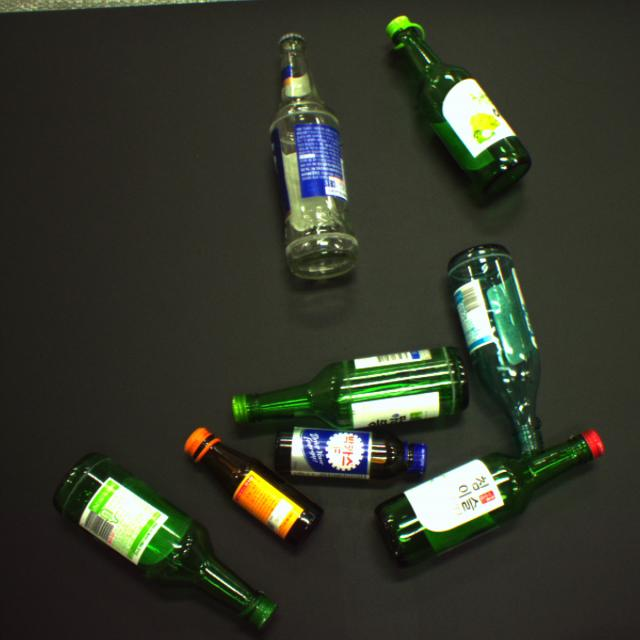beer-bottle: (269, 33, 361, 280)
soju-bottle: (53, 453, 279, 632), (374, 429, 605, 569), (385, 15, 532, 198), (445, 244, 545, 456), (231, 347, 469, 430)
